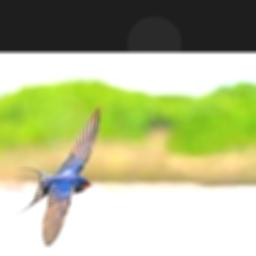Swallow: (8, 105, 100, 246)
